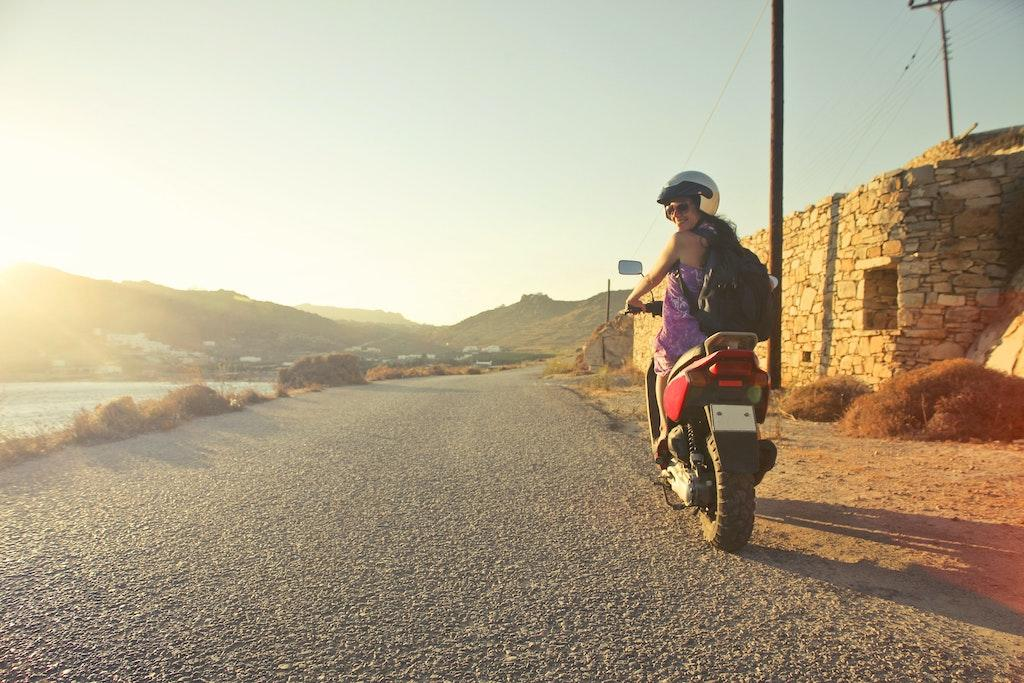helmet: (656, 169, 720, 233)
